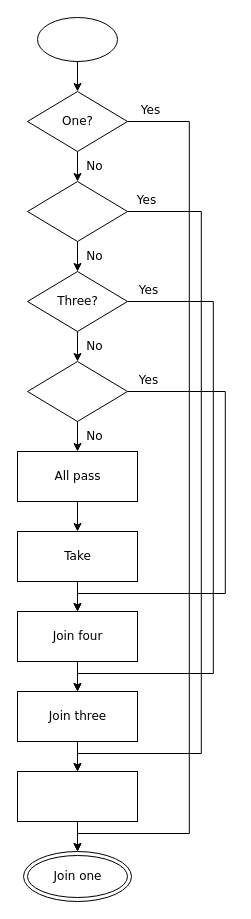
The diagram is 251 pixels wide and 919 high, and some of its shapes have lost their labels. The shapes that lost their labels are listed below. From the top down, each one's centre as x and y in pixels, then its label:
At point 77,39: "Enter".
At point 77,211: "Two?".
At point 77,391: "Four?".
At point 77,796: "Join two".
